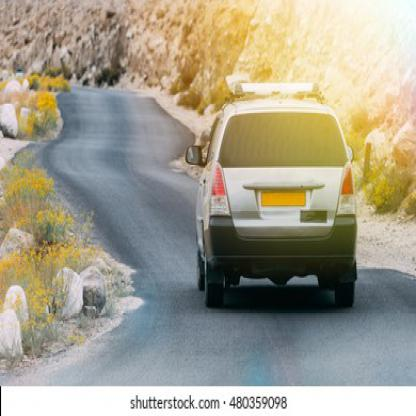car: (184, 84, 358, 308)
